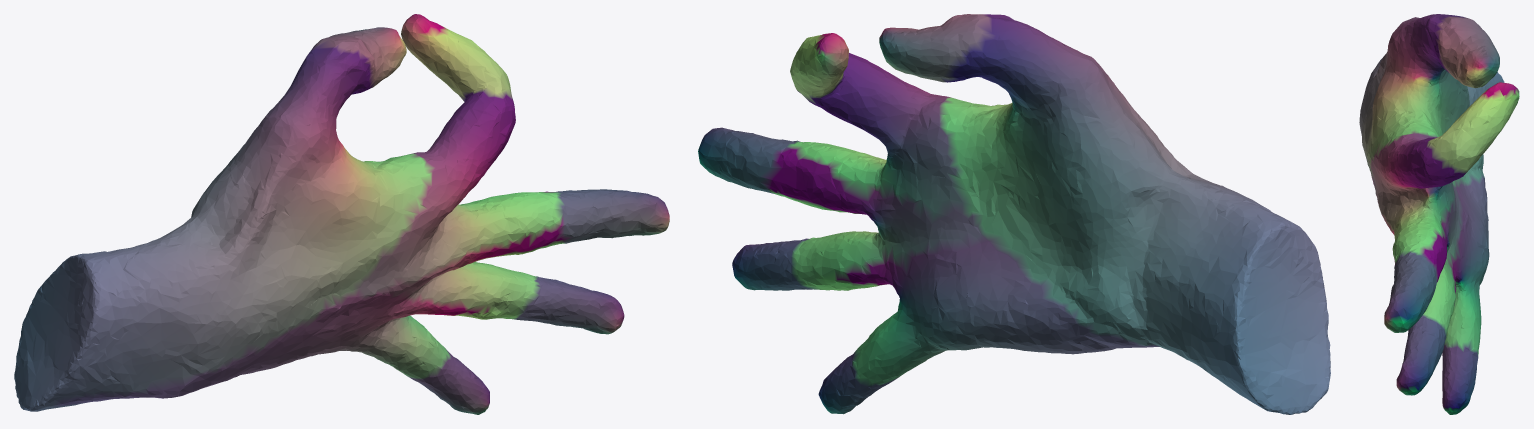
File: hand-6.off.obj
3 views of the same model, side by side, from view 1: azimuth 30°, elevation 25°; view 2: azimuth 150°, elevation 25°; view 3: azimuth 270°, elevation 25° (orthographic). The views are drawn at different scales.
Size of the model in its own units: 1.75 by 1.11 by 0.4716.
